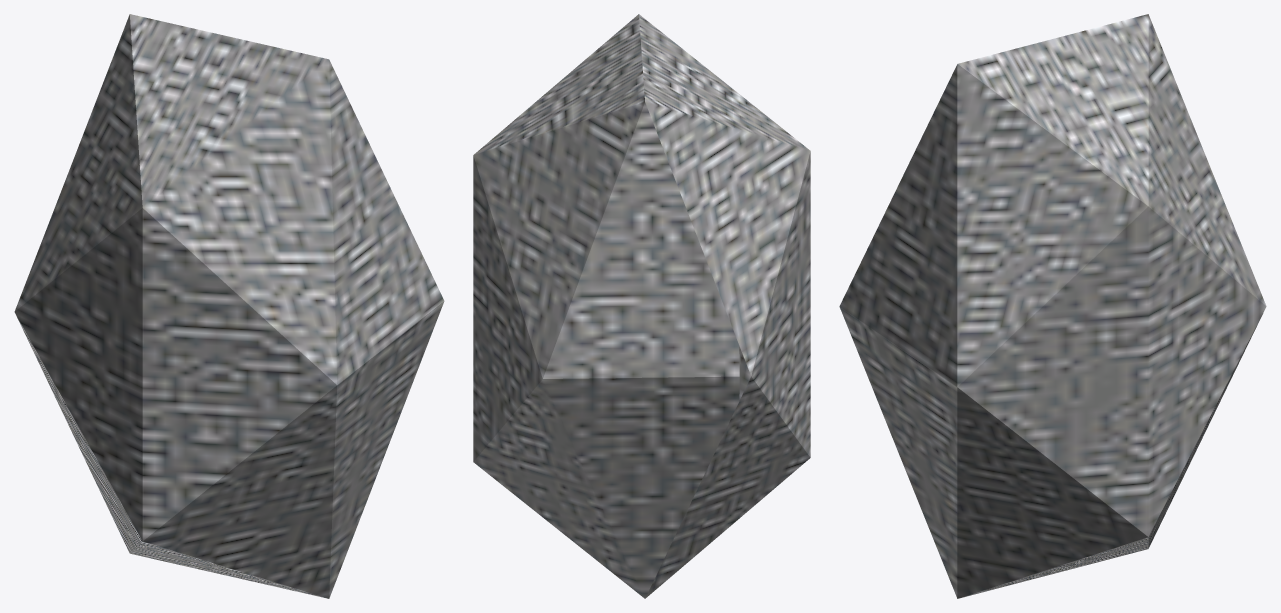
Rendered from CoreCrystal.obj.
3 renders of one model, left to right at view 1: azimuth 30°, elevation 25°; view 2: azimuth 150°, elevation 25°; view 3: azimuth 270°, elevation 25°, orthographic. The views are drawn at different scales.
Visible parts, largest first — view 1: CoreCrystal; view 2: CoreCrystal; view 3: CoreCrystal.
Part boxes in pixels (x1,y1,x2,y2): CoreCrystal: (14, 14, 444, 598); CoreCrystal: (473, 14, 810, 598); CoreCrystal: (839, 14, 1266, 598).
Size of the model in its own units: 6.63 by 10.24 by 7.41.
1 material, 1 textured.
